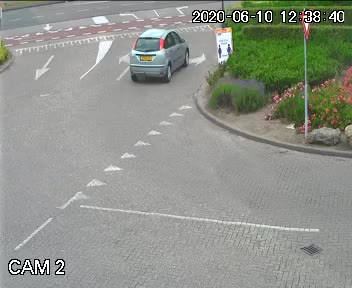car: (128, 24, 198, 85)
